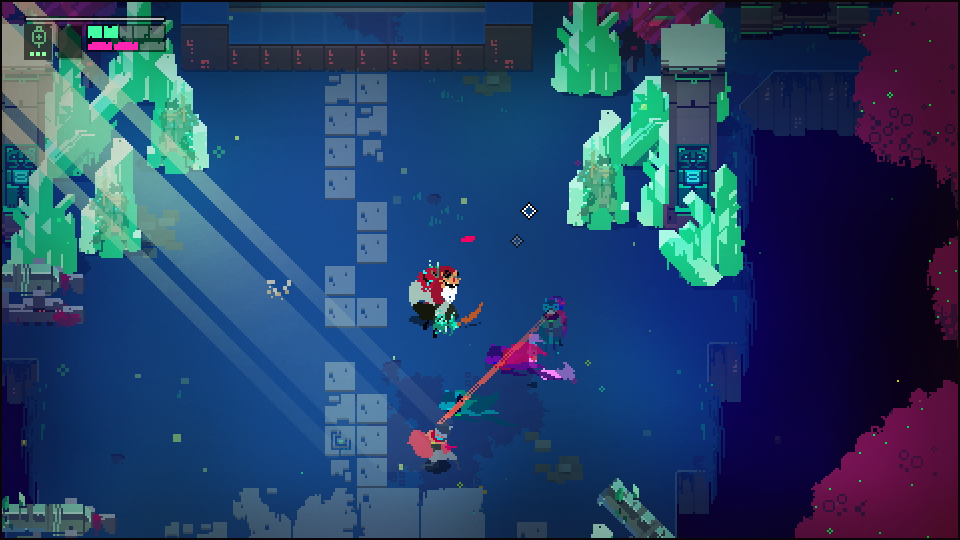hanged_man: (408, 265, 476, 330)
player: (404, 424, 457, 462)
